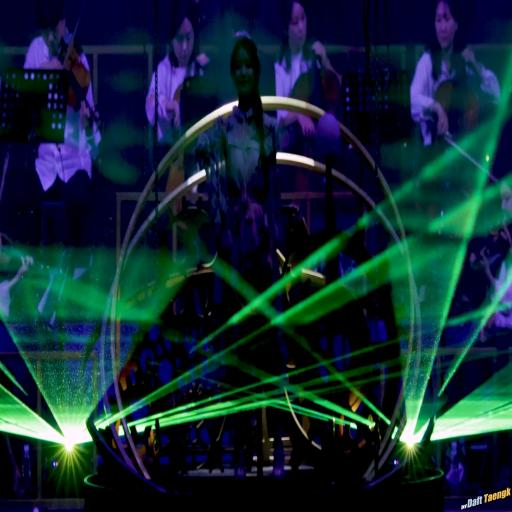IU: (231, 37, 260, 100)
